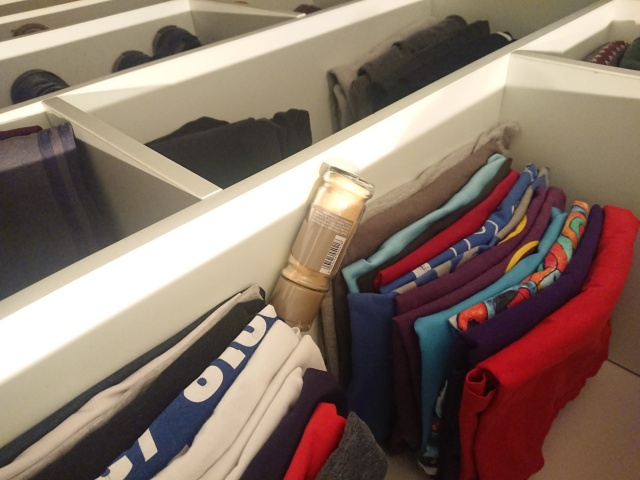Kotanyi Garlic Granules 70g: (262, 162, 378, 336)
